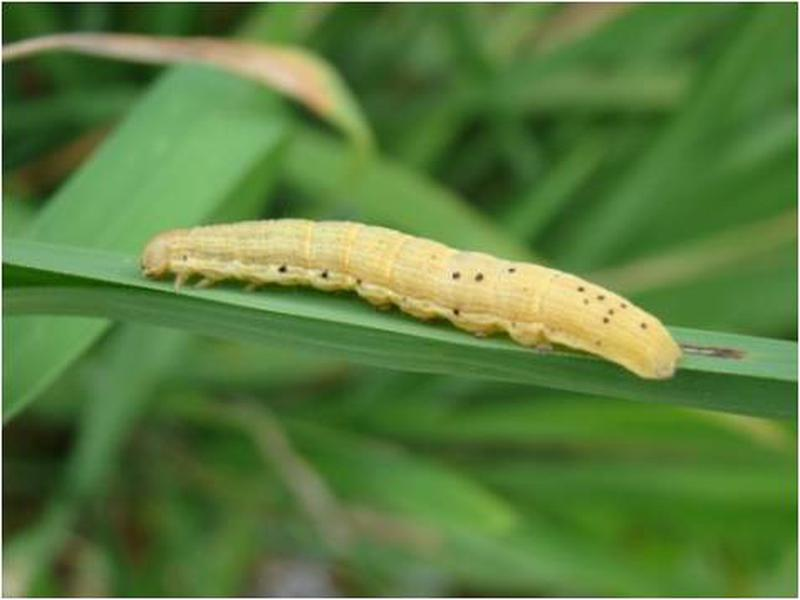Whorl_maggot: (116, 210, 710, 403)
